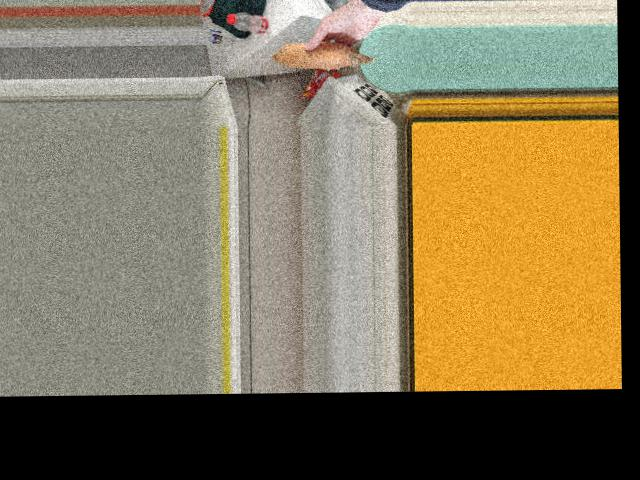sweet_potato: (284, 38, 365, 69)
